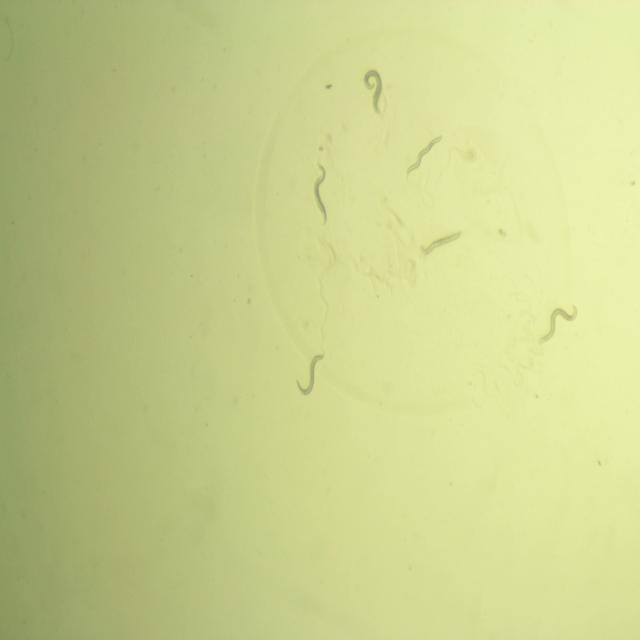worm: (533, 301, 581, 350), (402, 131, 445, 181), (414, 223, 468, 262), (292, 346, 328, 404), (309, 157, 334, 231), (361, 66, 386, 121)
